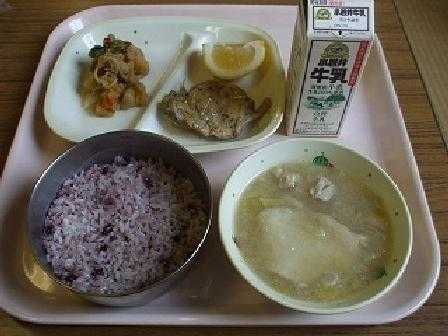Citrus: (189, 33, 275, 79)
Meat: (158, 82, 267, 143)
Milk: (277, 1, 379, 138)
Rice: (29, 142, 218, 296)
Soups: (226, 148, 417, 309)
vegetable based cooked food: (80, 28, 146, 115)
